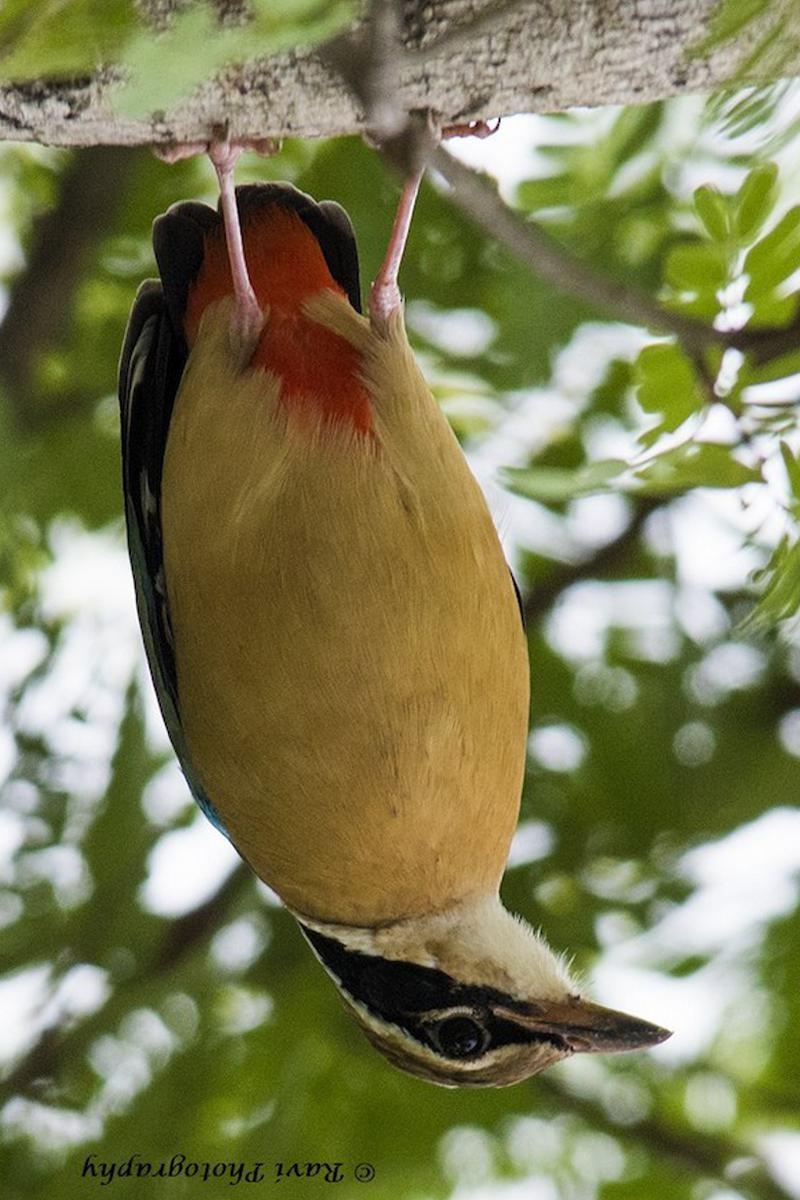pitta: (58, 37, 681, 1111)
